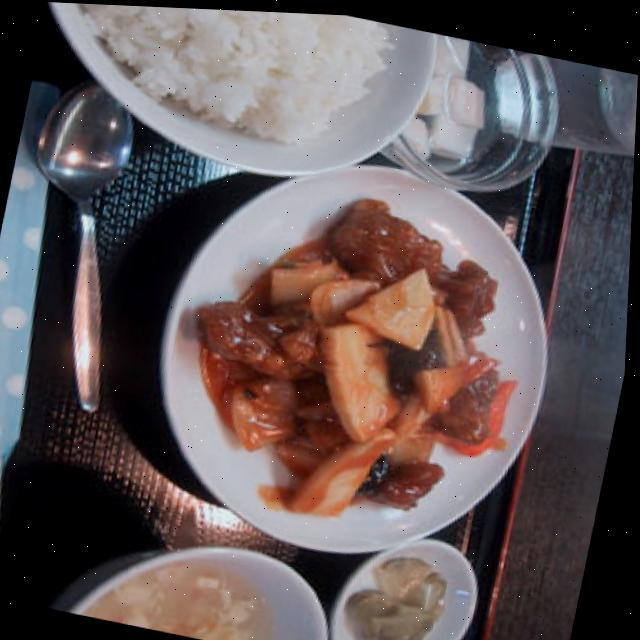汤锅炖物: (70, 499, 360, 640)
猪肉菜式: (167, 164, 551, 546)
米饭主食: (22, 1, 438, 192)
